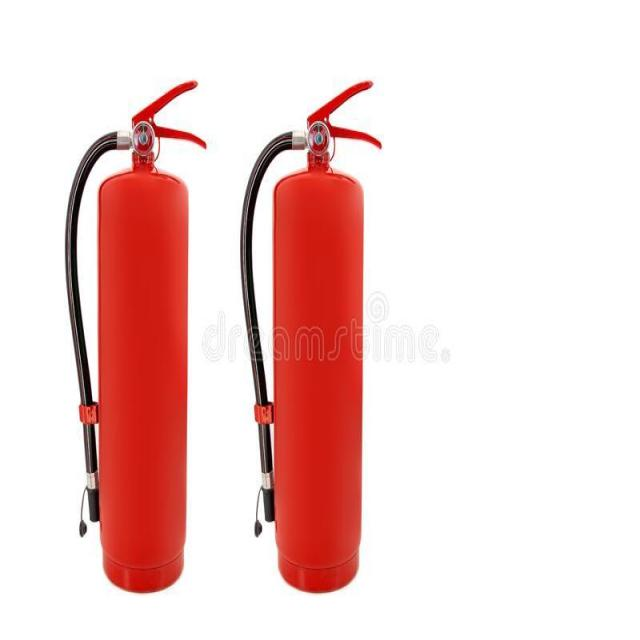fire_extinguisher: (236, 75, 386, 596), (62, 77, 208, 594)
